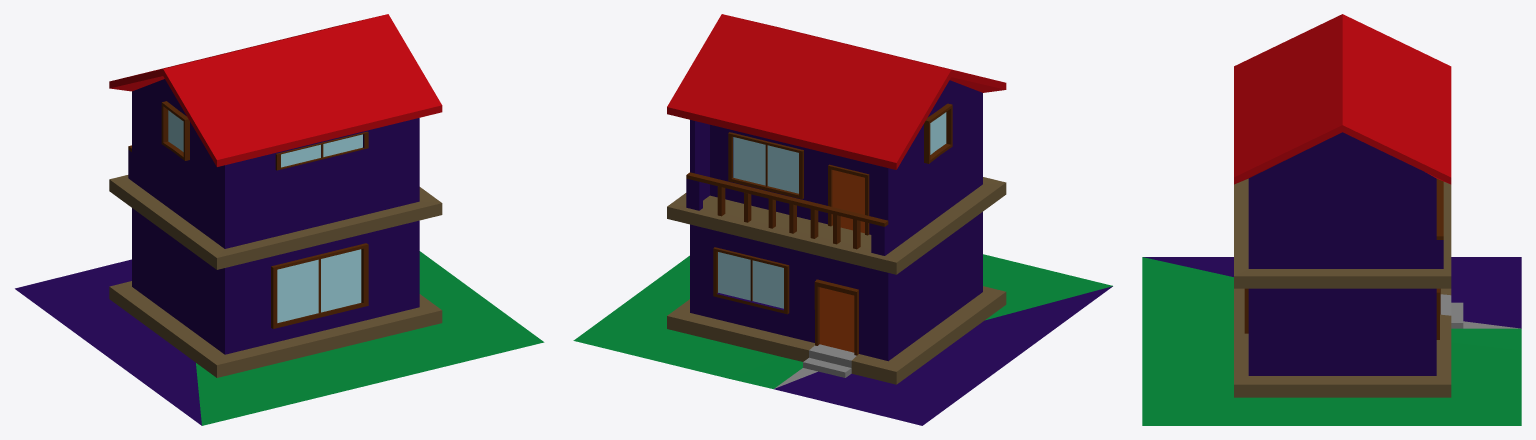
The model's file is house-2F (1).fbx.
3 renders of one model, left to right at view 1: azimuth 30°, elevation 25°; view 2: azimuth 150°, elevation 25°; view 3: azimuth 270°, elevation 25°, orthographic.
Visible parts, largest first — view 1: Cube; view 2: Cube; view 3: Cube.
Boxes of the visible parts, box(x1,y1,x2,y2) form: Cube: box(15, 14, 544, 425); Cube: box(573, 14, 1112, 425); Cube: box(1142, 14, 1521, 425).
Size of the model in its own units: 1997 by 1502 by 1894.
